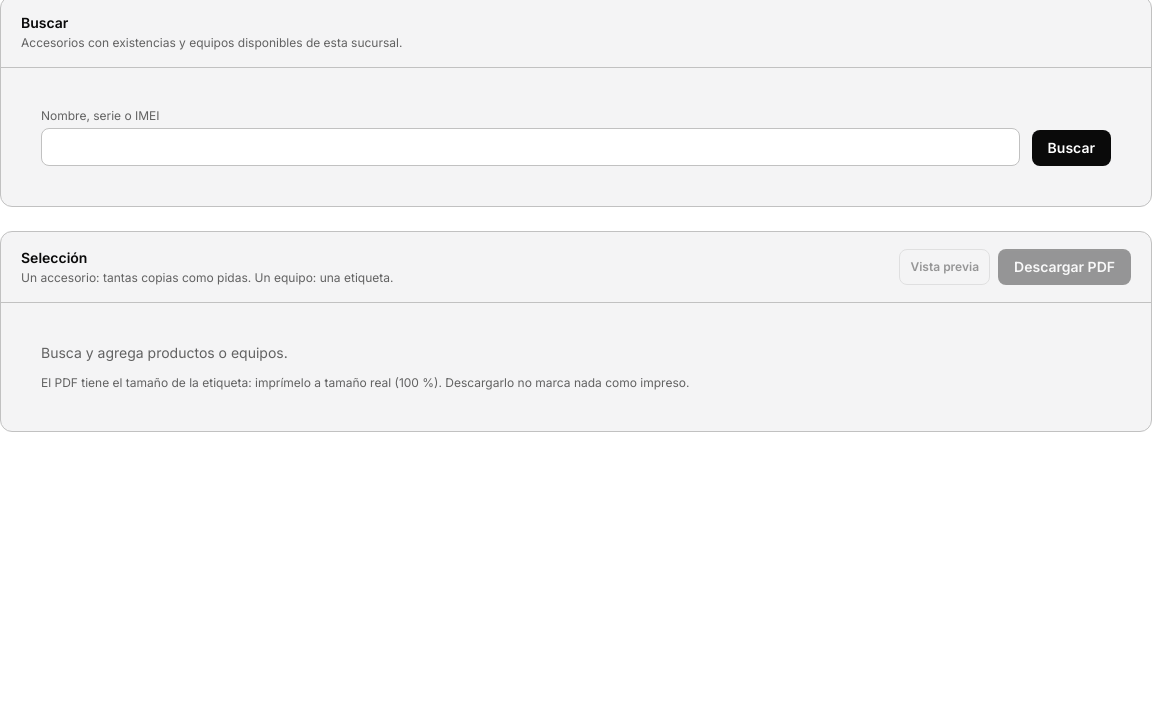
Test case: Etiquetas y códigos de barras › muestra lo listo y lo que hay que revisar, con su motivo
Click the button "Buscar". click: (1071, 148)
box: [1032, 130, 1111, 166]
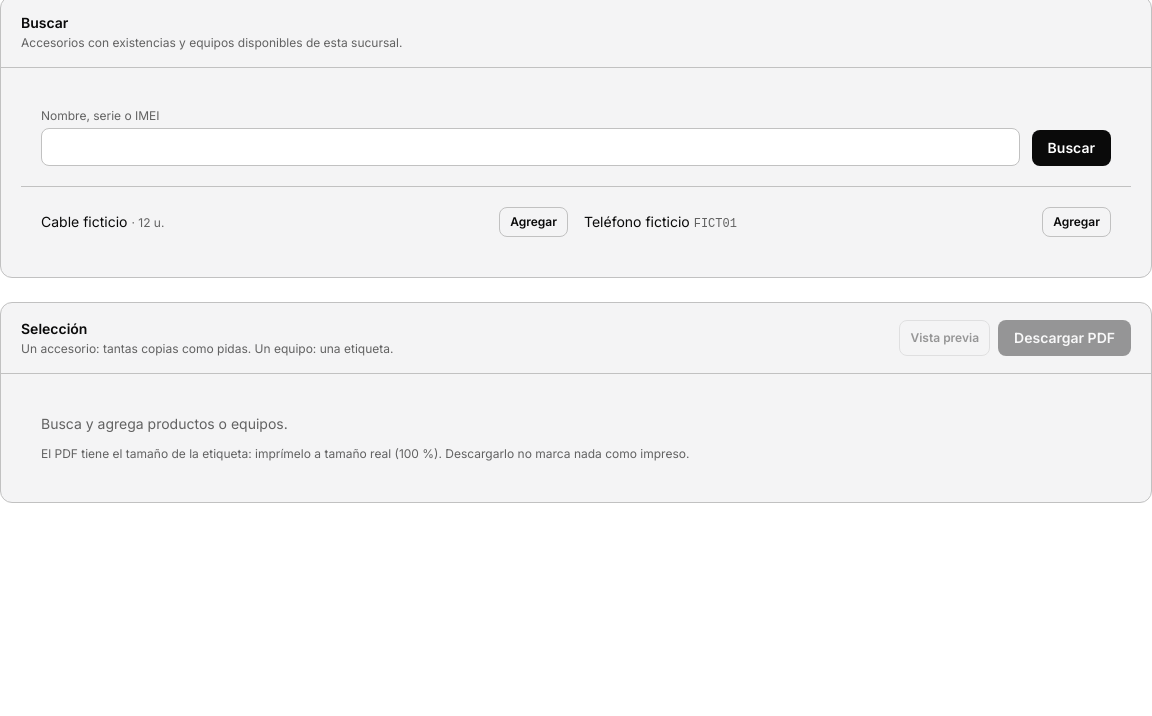
Click the button with aria-label "Agregar Cable ficticio". click: (534, 222)
box: [499, 207, 568, 237]
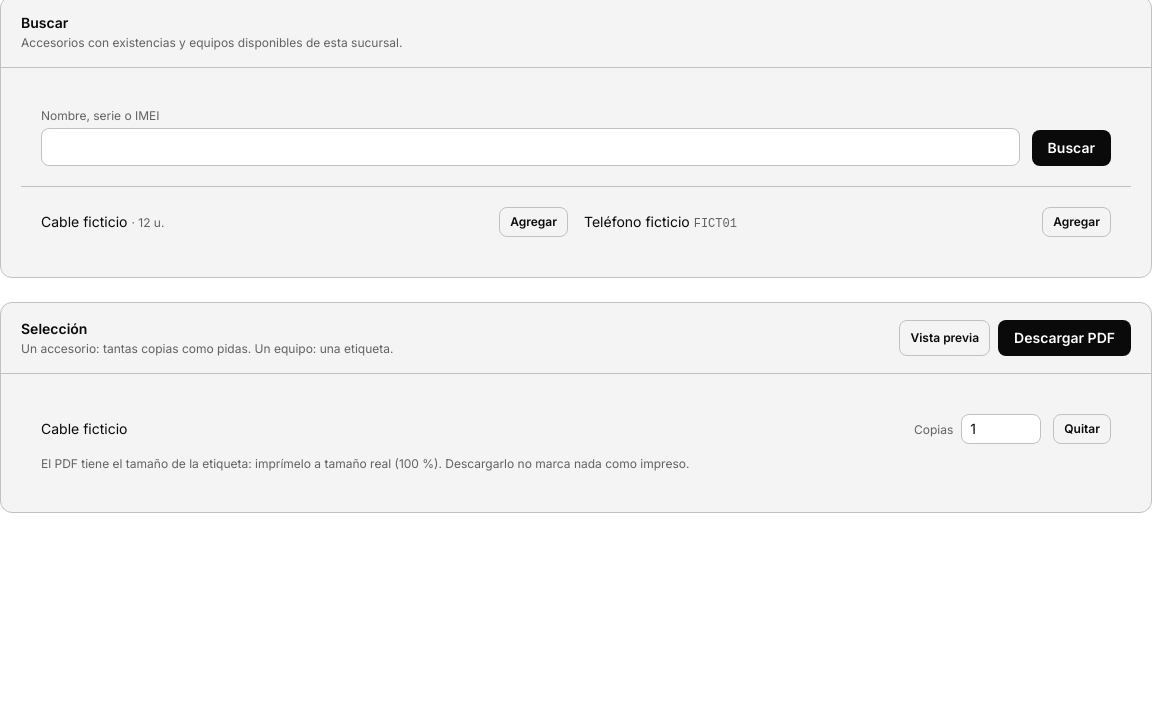
Click the button with aria-label "Agregar equipo FICT01". click: (1077, 222)
box: [1042, 207, 1111, 237]
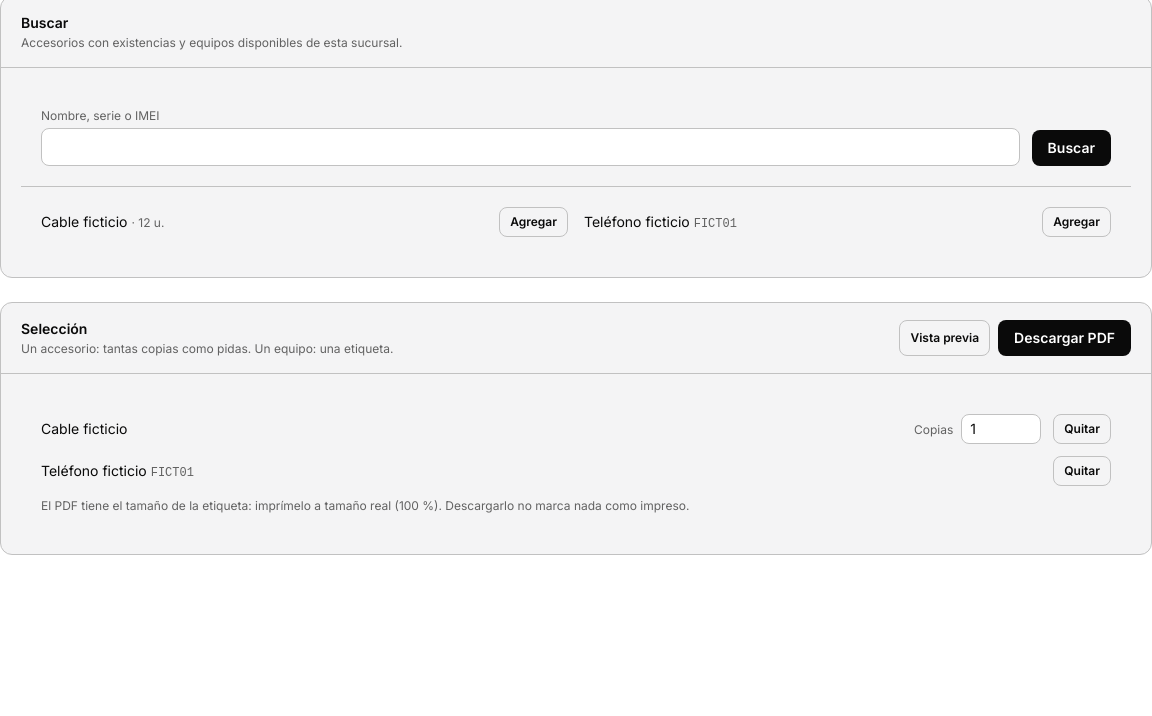
Replace the text in the number field named "Copias de Cable ficticio" with "3". click: (1001, 429)
box: [961, 414, 1041, 444]
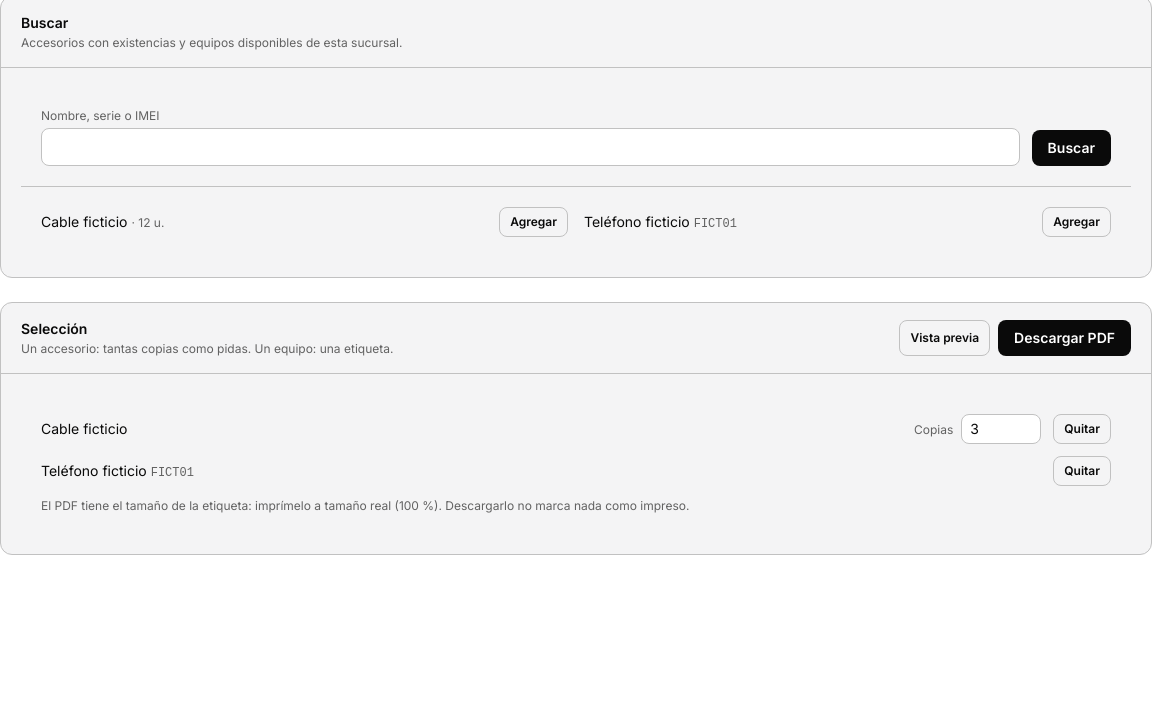
Click the button "Vista previa". click: (945, 338)
box: [900, 320, 990, 356]
(page scrolled)
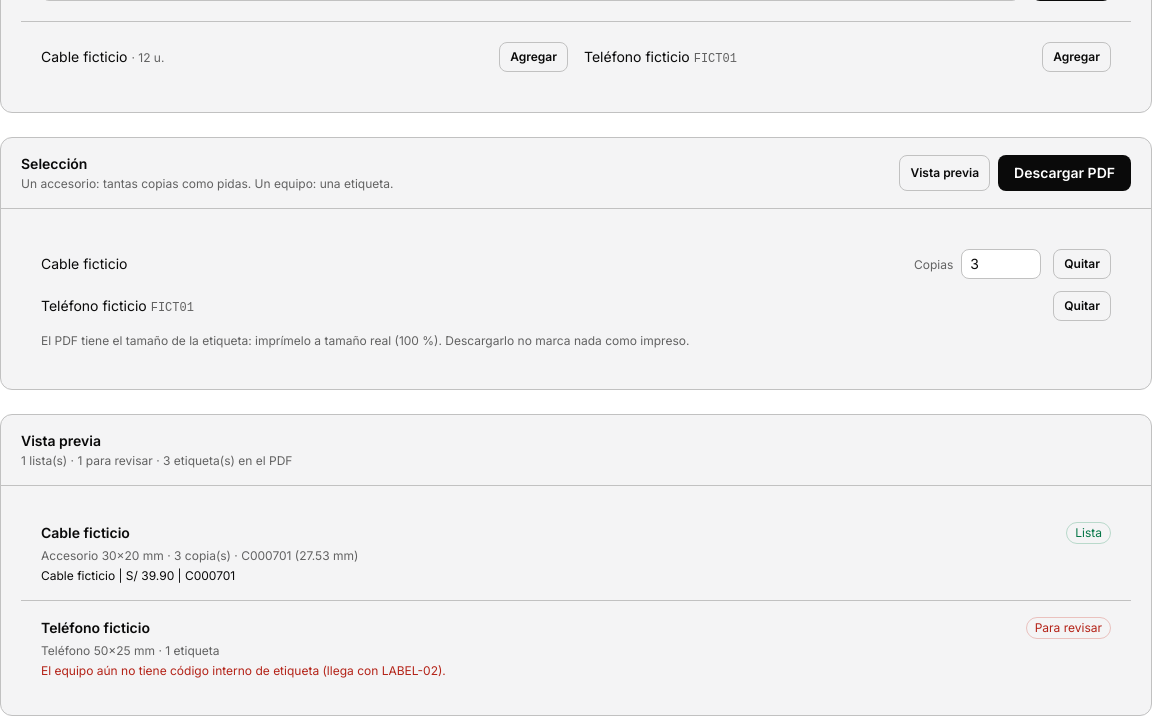
Expected: the text "Lista" is shown, [1066, 522, 1111, 544]
Expected: the text "Para revisar" is shown, [1026, 617, 1111, 639]
Expected: the text "llega con LABEL-02" is shown, [41, 663, 446, 678]
